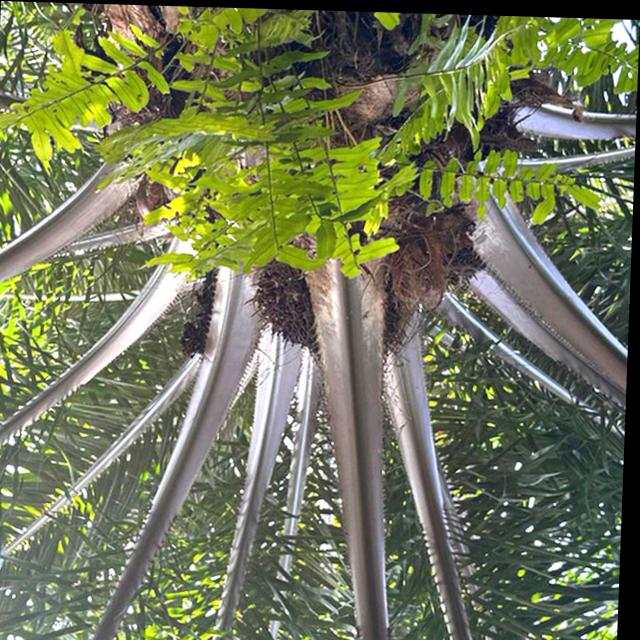ripe: (246, 252, 417, 375)
